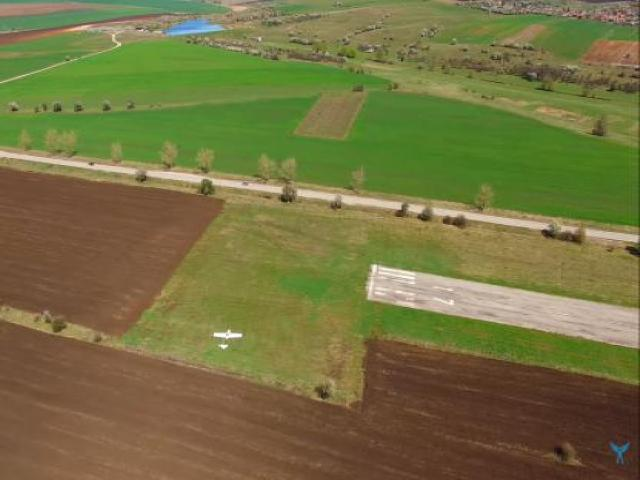uav: (208, 323, 246, 355)
